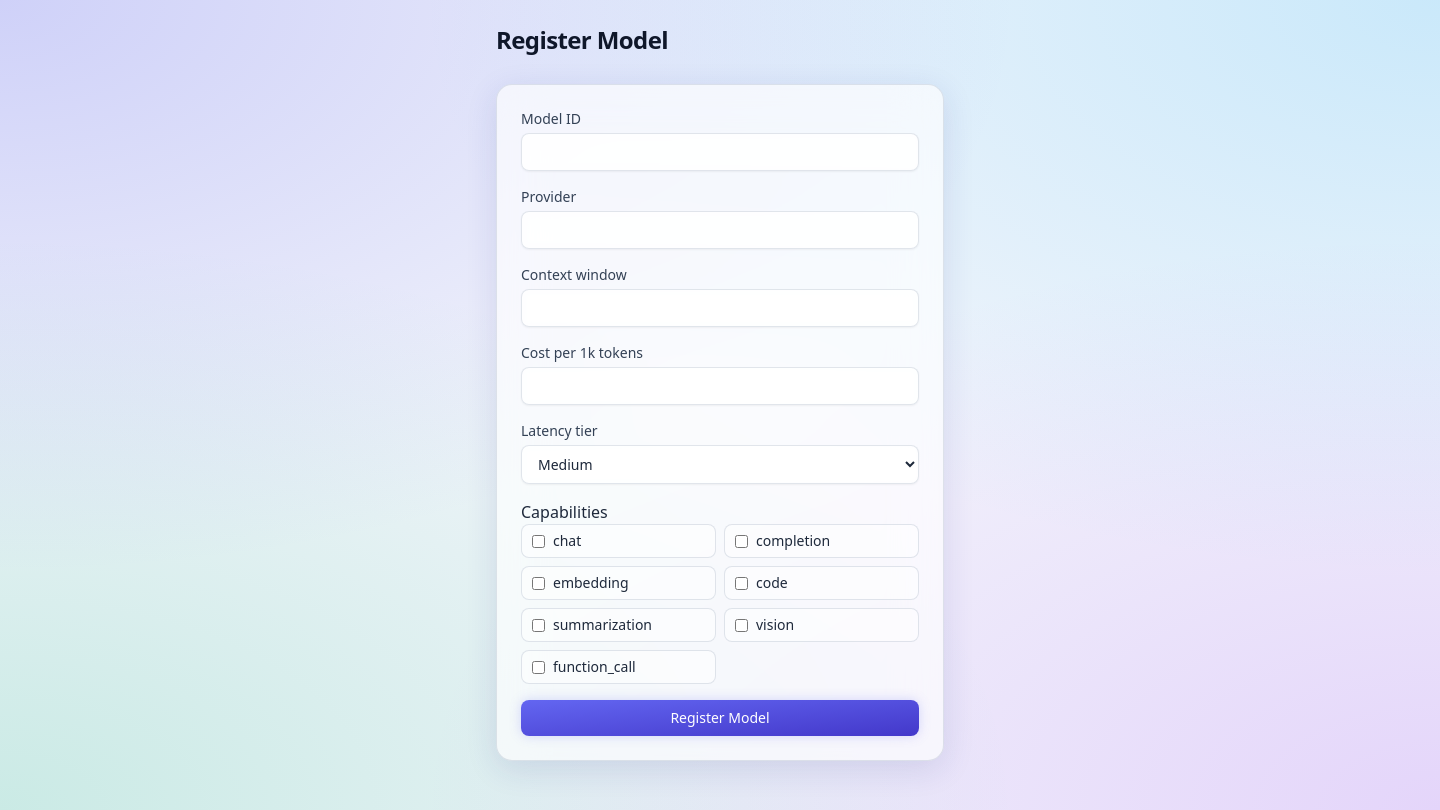
it: AddModelPage — HTTP 409 duplicate model › shows duplicate-model error message on 409 response
In the field labelled "Model ID": (720, 152) [521,133,919,171], type "gpt-4o"
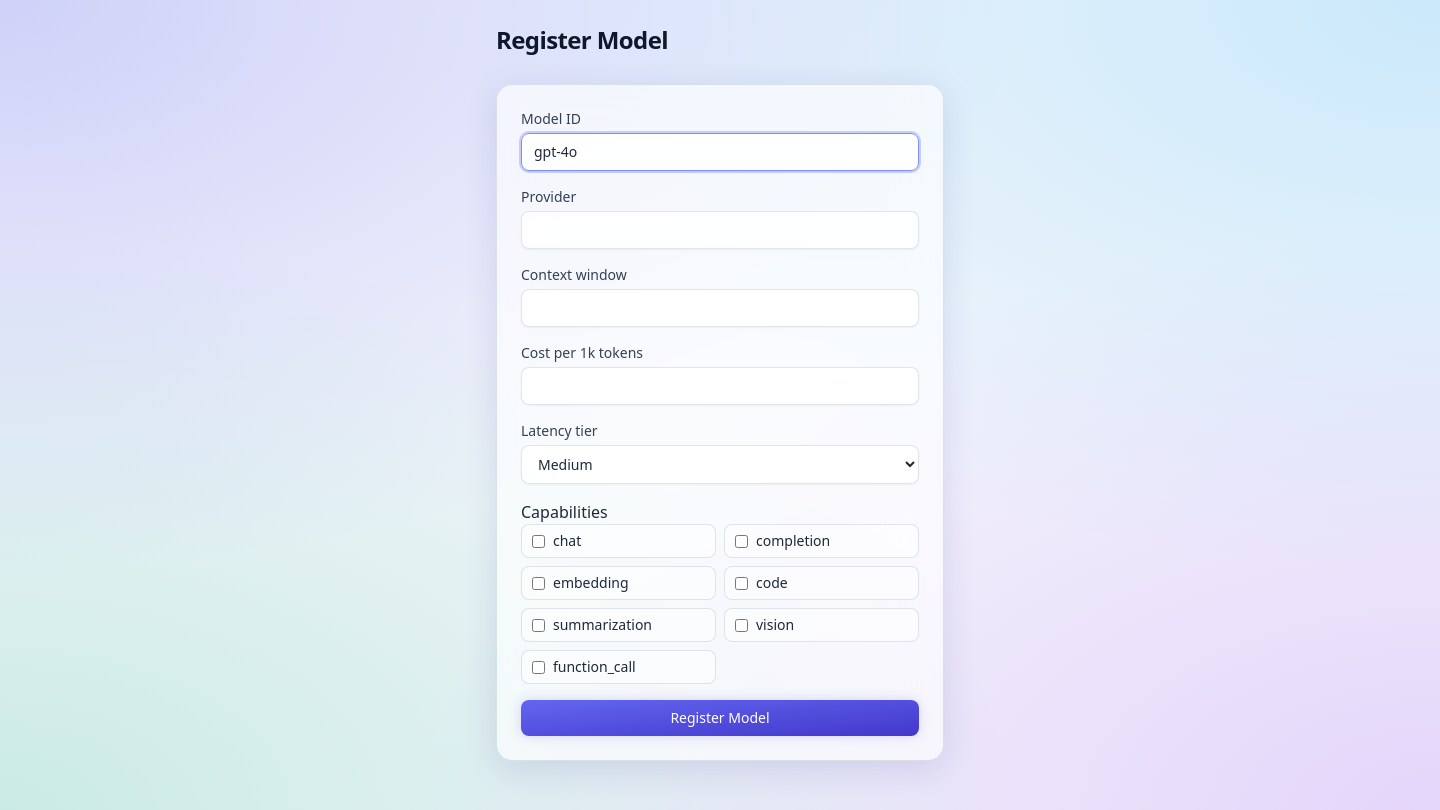
In the field labelled "Provider": (720, 230) [521,211,919,249], type "openai"
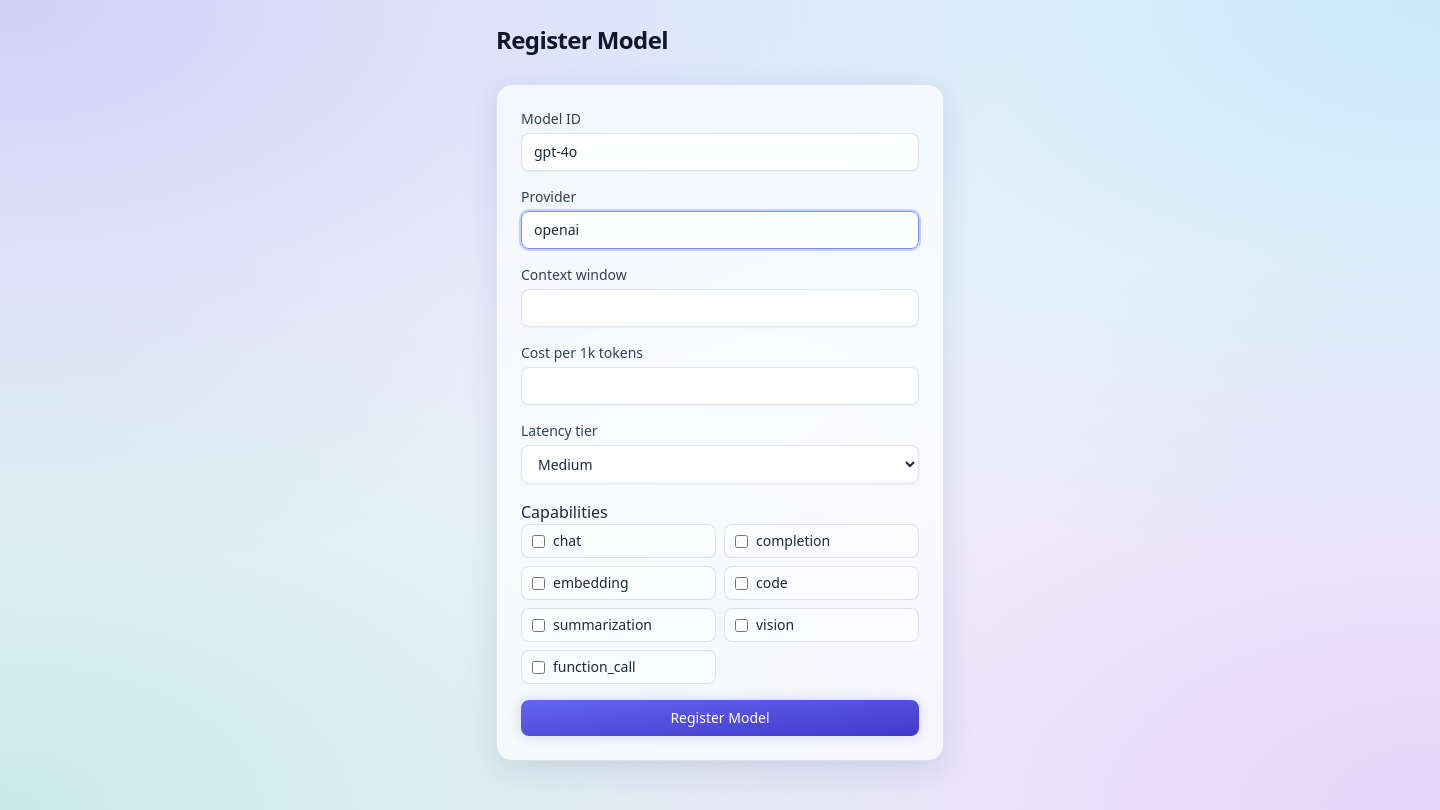
In the number field labelled "Context window": (720, 308) [521,289,919,327], type "128000"
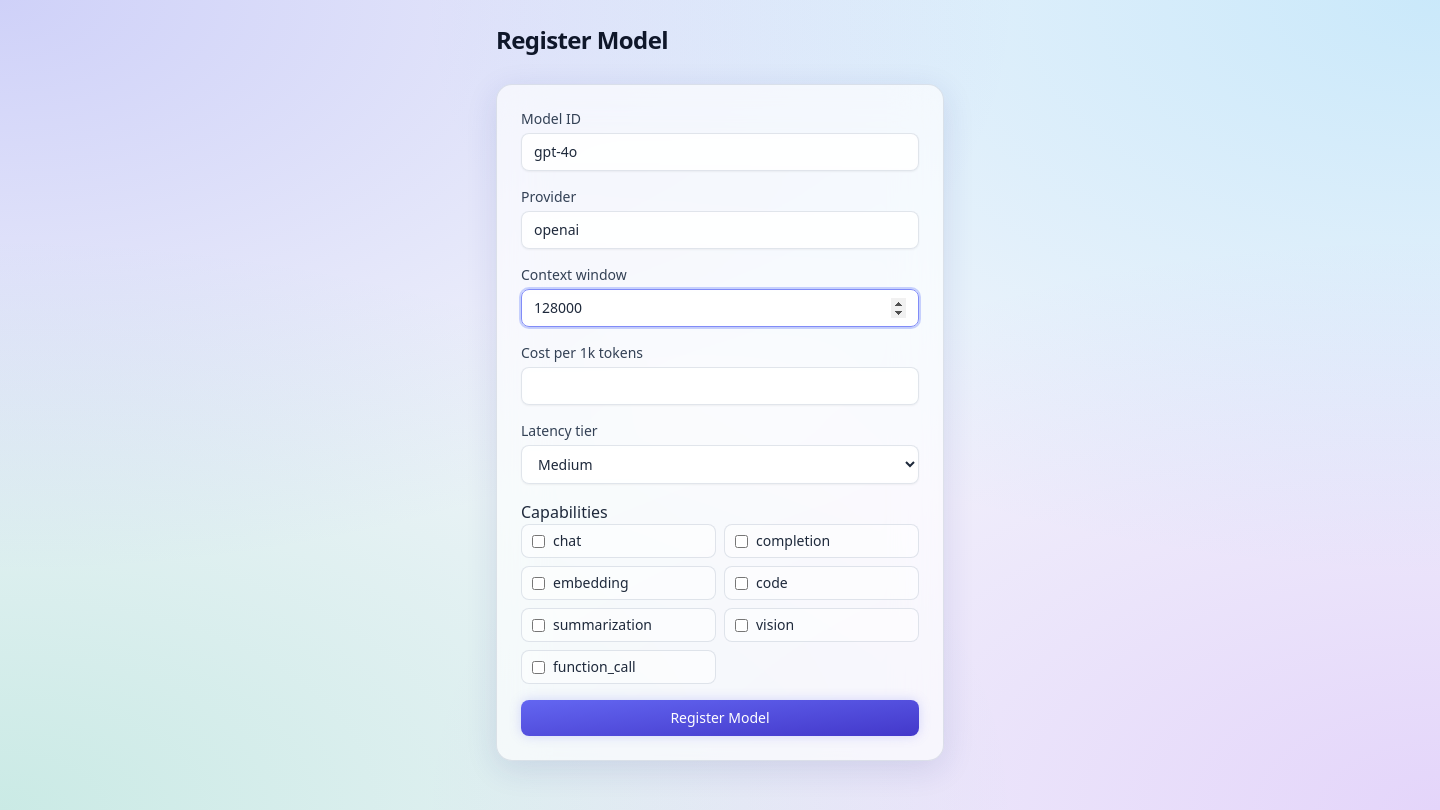
In the number field labelled "Cost per 1k tokens": (720, 386) [521,367,919,405], type "0.005"
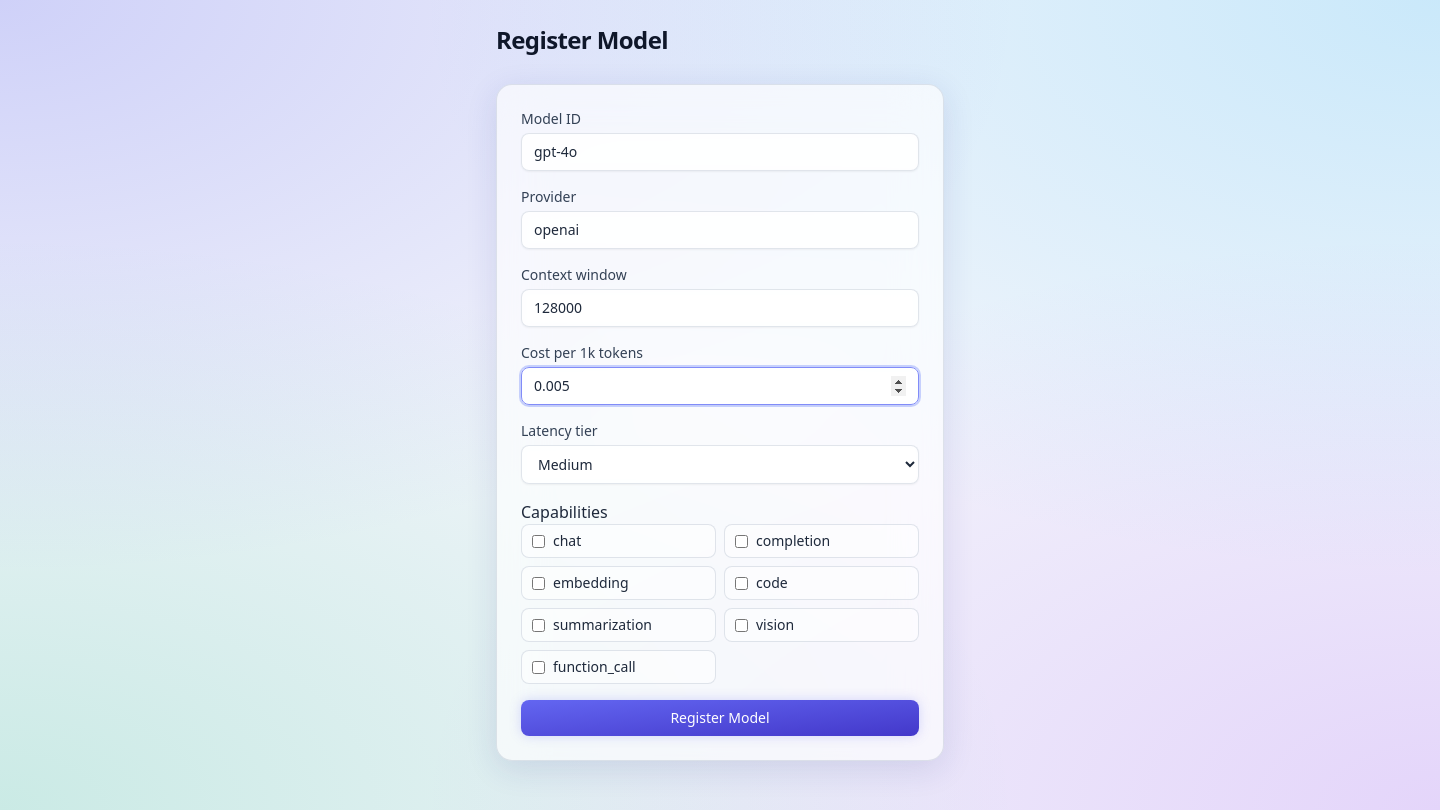
Click the checkbox labelled "chat": (538, 541) [532,534,545,548]
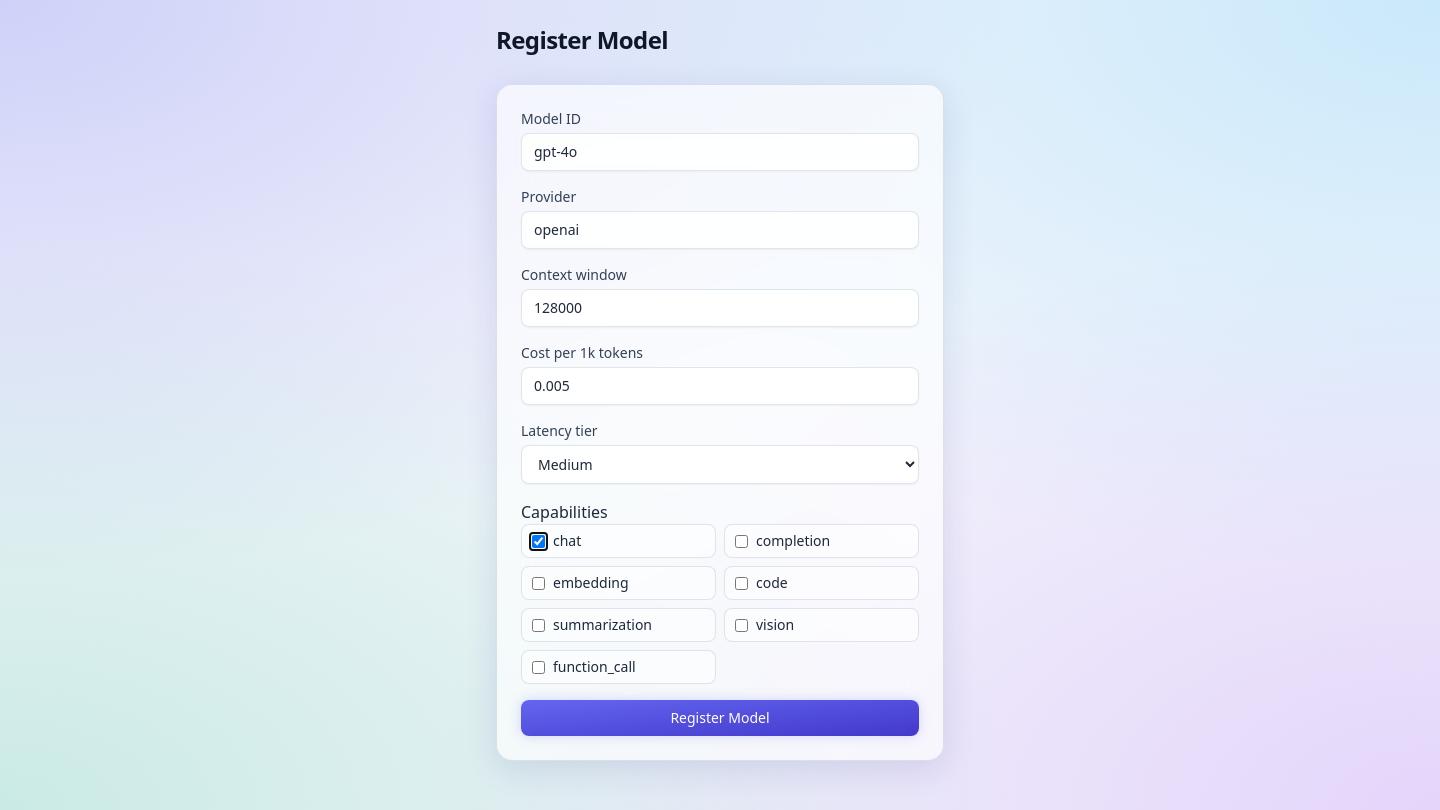
Click the button "Register Model": (720, 718) [521,700,919,736]
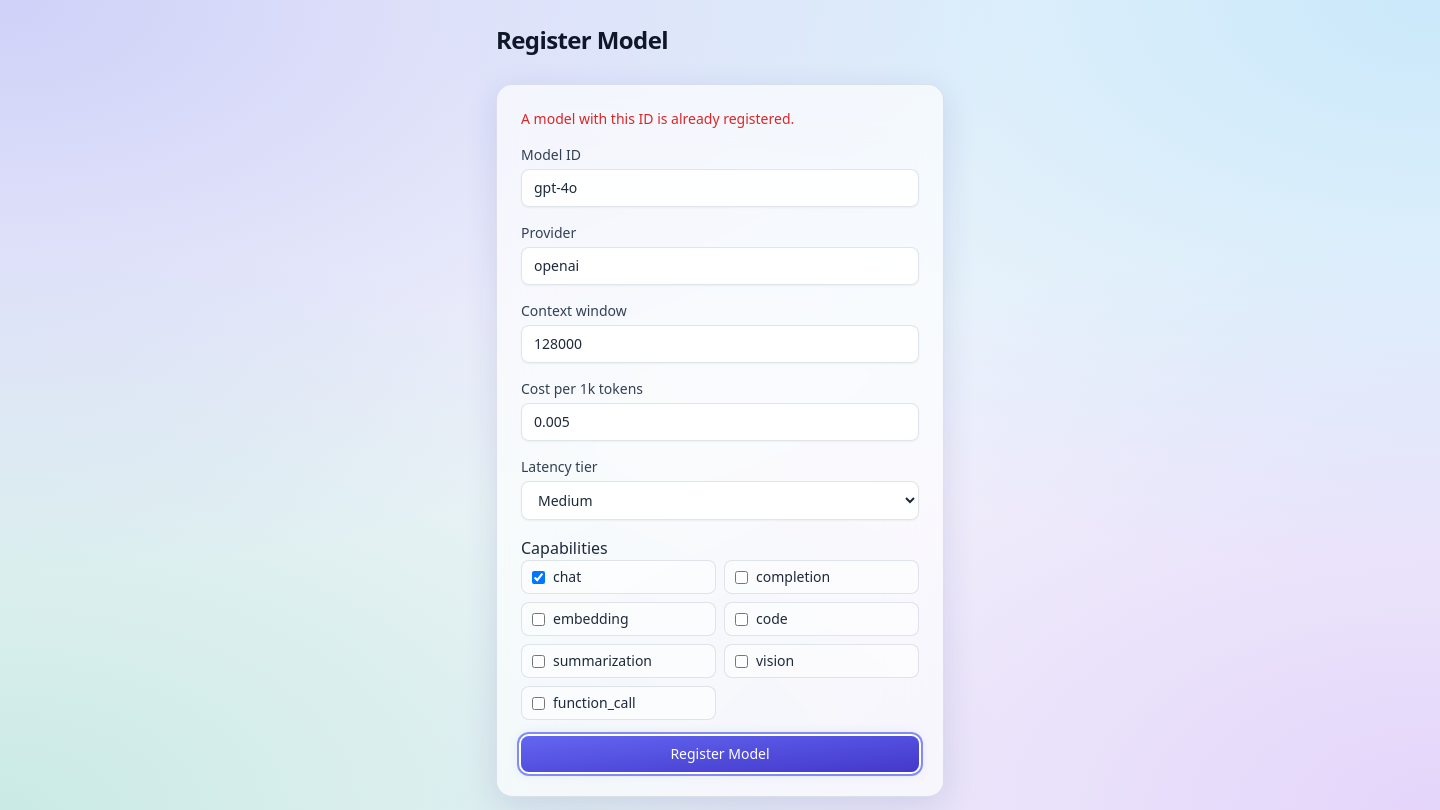
expect the text "A model with this ID is already registered." is shown: met, box [521,109,794,128]
